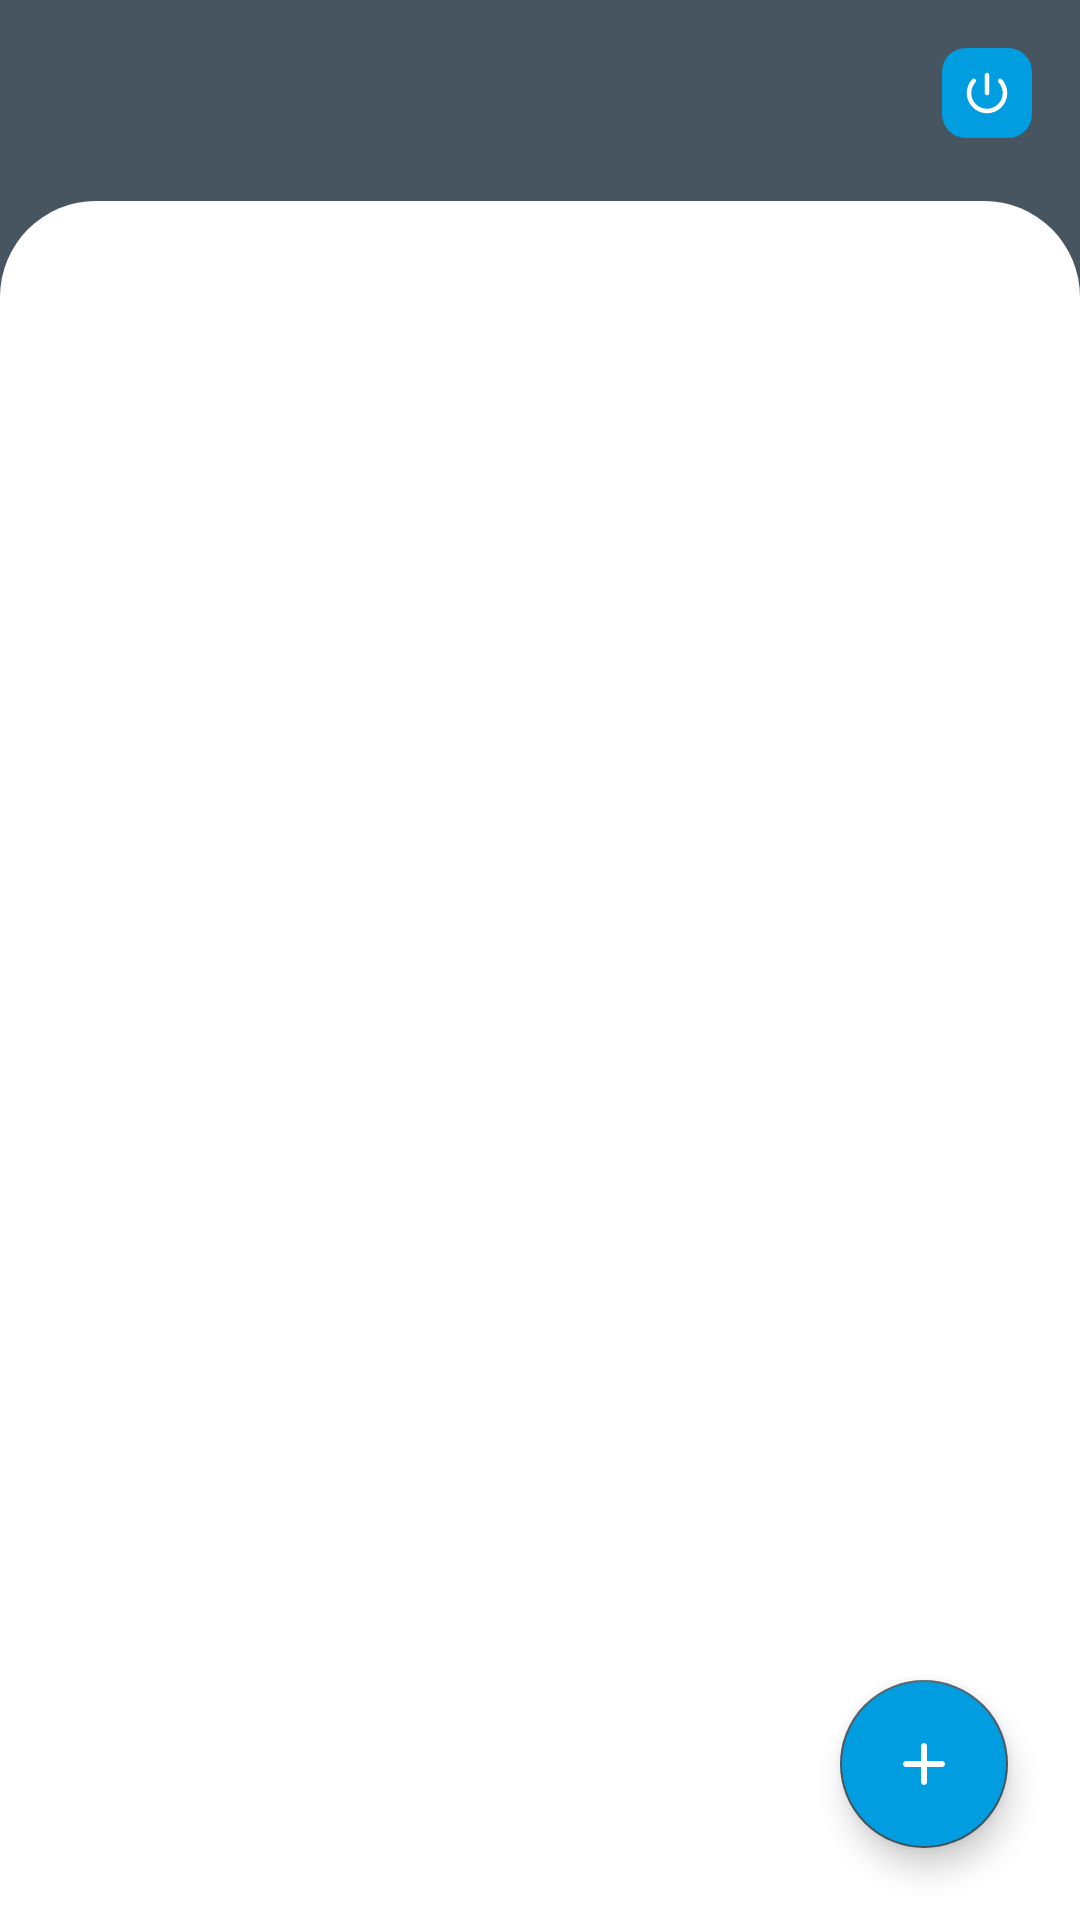

Where to tap for icons on this 1080x1920 app screen, as point (x, y):
add: point (924, 1764)
power: point (987, 93)
